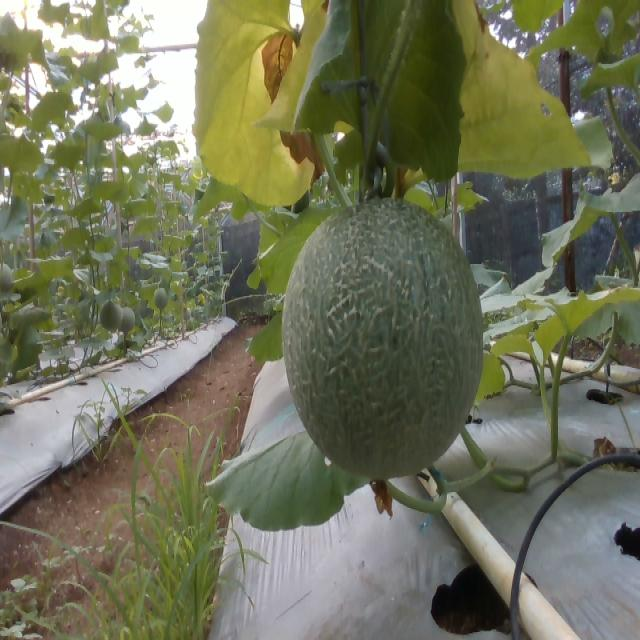melon: (283, 199, 484, 478)
